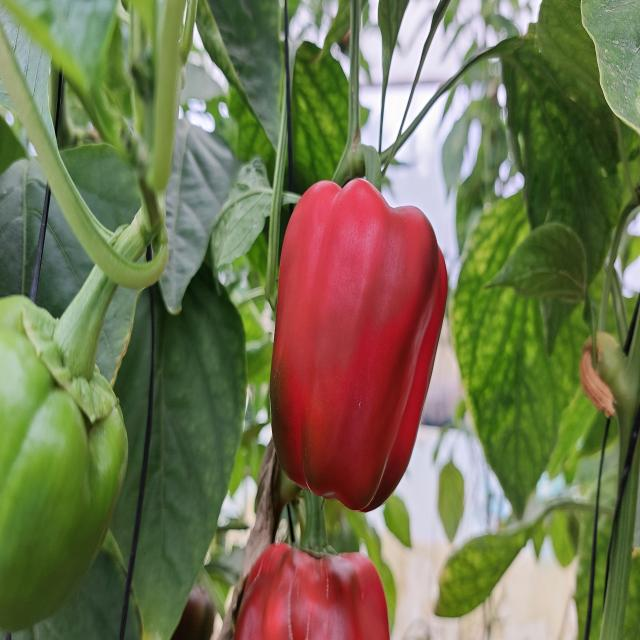Green--Not-ready-to-harvest: (0, 290, 126, 640)
Red-Ready-to-Harvest: (269, 177, 458, 511), (234, 541, 388, 640)
